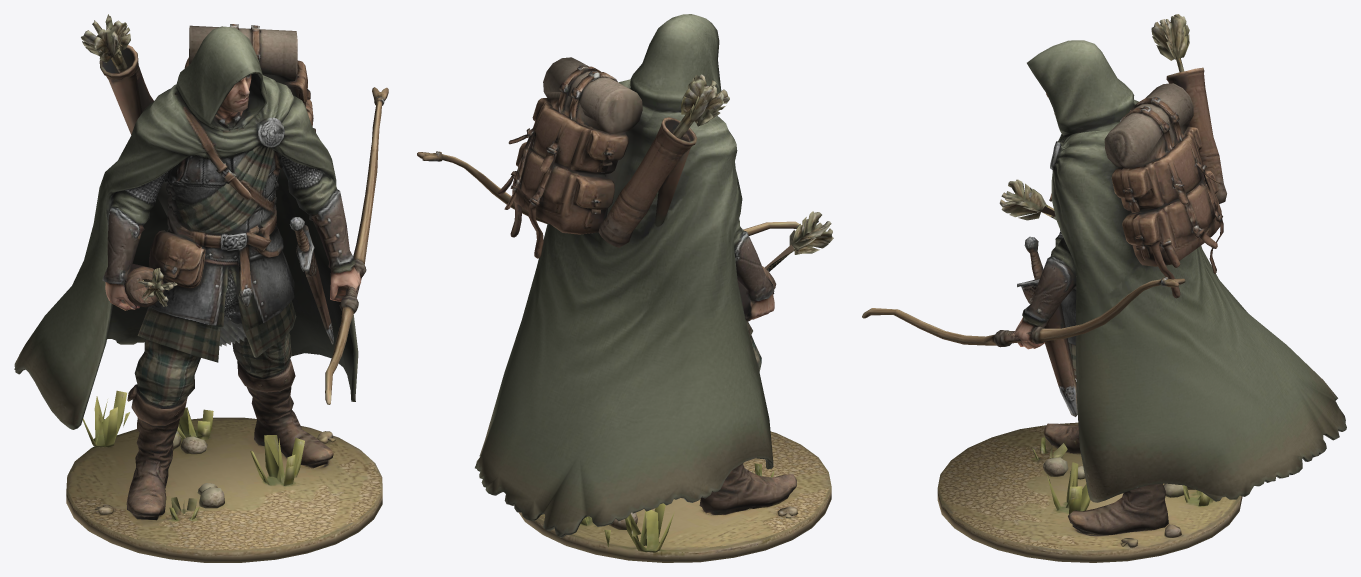
The model's file is explorer_alt2_male.glb.
The picture shows the model from 3 angles, left to right: view 1: azimuth 30°, elevation 25°; view 2: azimuth 150°, elevation 25°; view 3: azimuth 270°, elevation 25°; orthographic projection. The views are drawn at different scales.
Parts seen in each view (by area): view 1: tripo_node_2deae32c-2c39-46d8-9b76-ccb017188366; view 2: tripo_node_2deae32c-2c39-46d8-9b76-ccb017188366; view 3: tripo_node_2deae32c-2c39-46d8-9b76-ccb017188366.
Boxes of the visible parts, x1=… form: tripo_node_2deae32c-2c39-46d8-9b76-ccb017188366: x1=14, y1=14, x2=388, y2=562; tripo_node_2deae32c-2c39-46d8-9b76-ccb017188366: x1=417, y1=14, x2=833, y2=562; tripo_node_2deae32c-2c39-46d8-9b76-ccb017188366: x1=862, y1=14, x2=1346, y2=562.
Bounding box in the file's own units: 0.7707 × 0.998 × 0.9648.
Materials: 1 (1 with a texture image).
